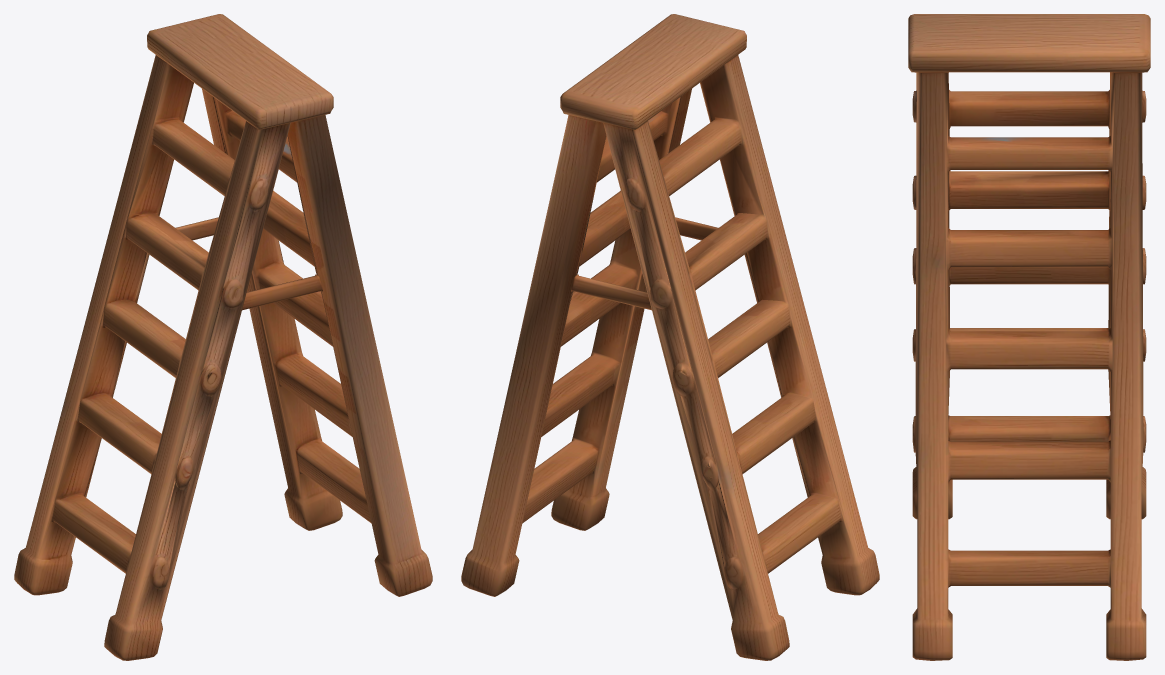
The model's file is a_wooden_ladder_3a9be926_v4.glb.
3 views of the same model, side by side, from view 1: azimuth 30°, elevation 25°; view 2: azimuth 150°, elevation 25°; view 3: azimuth 270°, elevation 25° (orthographic). The views are drawn at different scales.
Visible parts, largest first — view 1: material; view 2: material; view 3: material.
Part boxes in pixels (x1,y1,x2,y2): material: [14, 14, 432, 660]; material: [461, 14, 879, 660]; material: [908, 14, 1150, 660].
Size of the model in its own units: 1.19 by 1.9 by 0.744.
1 material, 1 textured.
